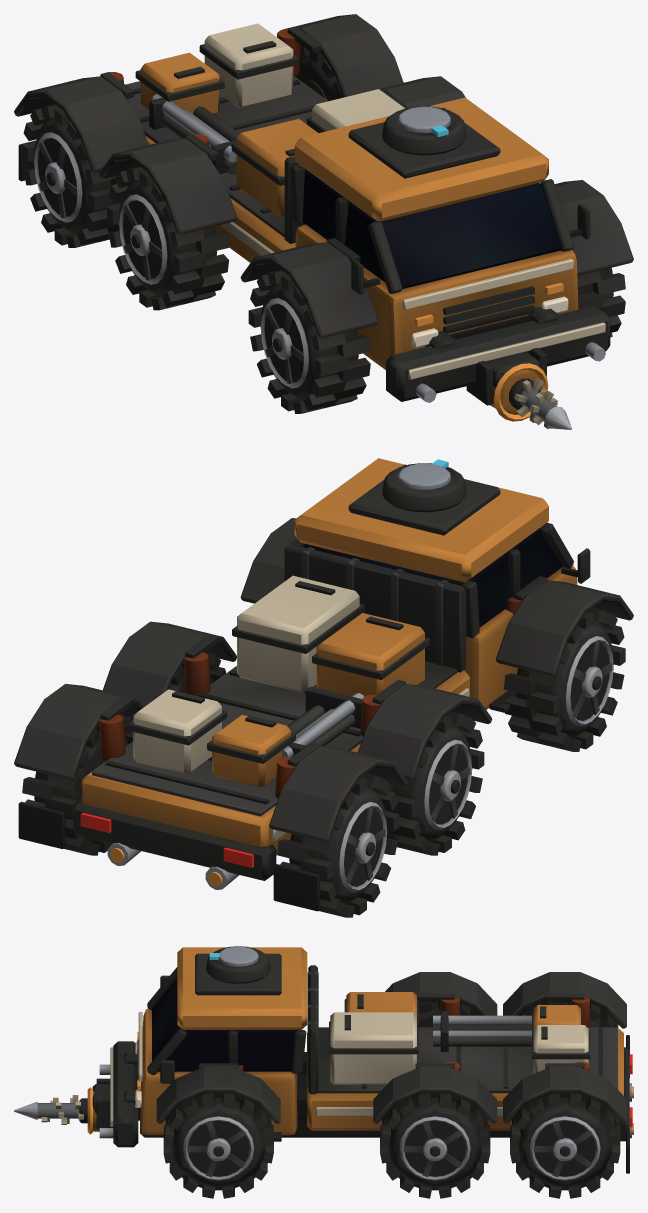
The model's file is ex_rover_1.glb.
3 views of the same model, one above another, from view 1: azimuth 30°, elevation 25°; view 2: azimuth 150°, elevation 25°; view 3: azimuth 270°, elevation 25° (orthographic). The views are drawn at different scales.
Parts seen in each view (by area): view 1: body, wheel_1, wheel_3, wheel_5, wheel_0, drill, wheel_4; view 2: body, wheel_1, wheel_5, wheel_3, wheel_4, wheel_2; view 3: body, wheel_0, wheel_4, wheel_2, drill, wheel_3, wheel_5.
Boxes of the visible parts, bbox=[...] form: body: bbox=[14, 14, 633, 421]; wheel_1: bbox=[248, 270, 370, 413]; wheel_3: bbox=[107, 166, 228, 310]; wheel_5: bbox=[22, 104, 121, 247]; wheel_0: bbox=[577, 267, 625, 337]; drill: bbox=[509, 378, 571, 429]; wheel_4: bbox=[294, 45, 342, 101]; body: bbox=[14, 458, 633, 911]; wheel_1: bbox=[503, 608, 625, 751]; wheel_5: bbox=[277, 773, 399, 917]; wheel_3: bbox=[385, 711, 484, 855]; wheel_4: bbox=[22, 713, 133, 855]; wheel_2: bbox=[169, 651, 225, 693]; body: bbox=[87, 946, 633, 1173]; wheel_0: bbox=[163, 1093, 273, 1198]; wheel_4: bbox=[510, 1093, 620, 1198]; wheel_2: bbox=[380, 1093, 490, 1198]; drill: bbox=[14, 1095, 87, 1124]; wheel_3: bbox=[418, 1002, 479, 1027]; wheel_5: bbox=[520, 1001, 618, 1028].
Bounding box in the file's own units: 3.62 × 2.63 × 7.88.
